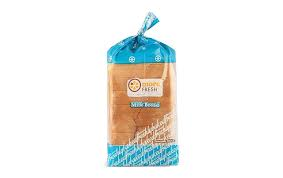bread: (100, 18, 181, 171)
